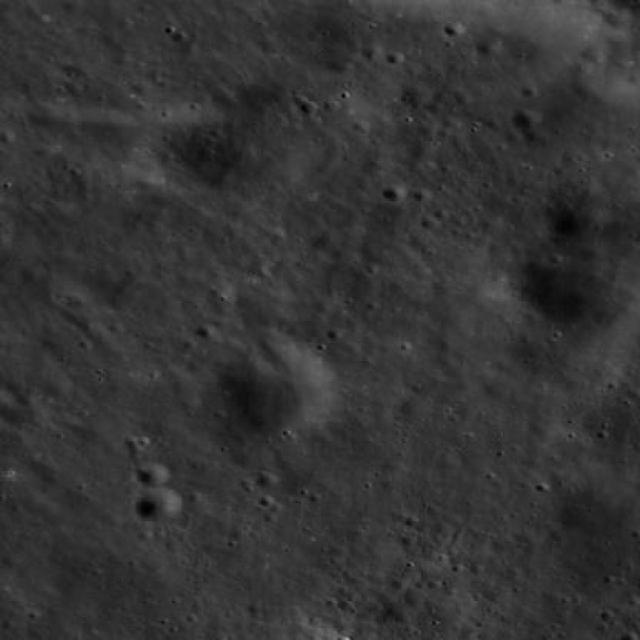crater: (166, 88, 322, 201), (241, 60, 370, 154), (214, 342, 340, 436), (510, 297, 633, 388), (325, 29, 427, 103), (552, 473, 640, 539), (68, 108, 141, 160), (542, 188, 610, 238), (134, 486, 183, 523), (1, 396, 49, 432), (21, 98, 64, 130), (32, 369, 74, 400), (256, 328, 298, 359), (394, 392, 432, 418), (136, 462, 170, 486), (399, 82, 432, 106), (602, 8, 632, 30), (512, 108, 540, 128), (580, 43, 606, 62), (402, 586, 426, 605), (475, 37, 500, 55), (382, 184, 404, 201), (360, 42, 382, 59), (442, 20, 464, 36), (1, 0, 2, 1)
